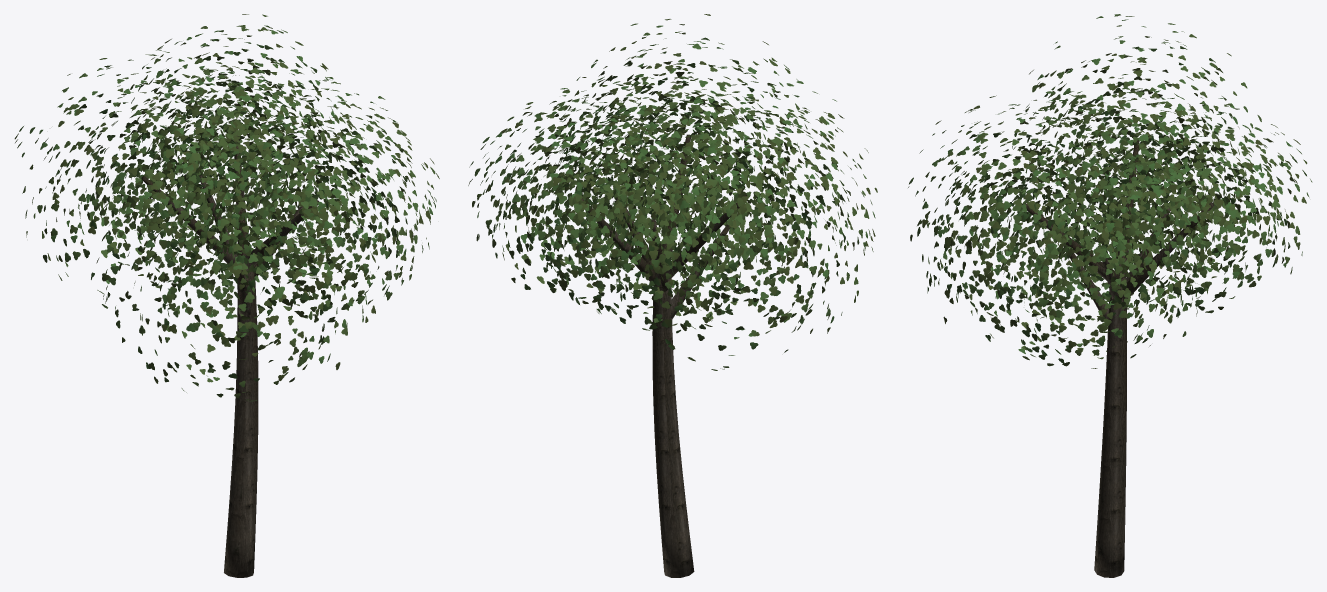
Rendered from ER_Arbre_Feuillu_14m.gltf.
3 renders of one model, left to right at view 1: azimuth 30°, elevation 25°; view 2: azimuth 150°, elevation 25°; view 3: azimuth 270°, elevation 25°, orthographic. The views are drawn at different scales.
Parts seen in each view (by area): view 1: ER_Arbre_Feuillu_14m_FEU3.001, ER_Arbre_Feuillu_14m_ECO.001; view 2: ER_Arbre_Feuillu_14m_FEU3.001, ER_Arbre_Feuillu_14m_ECO.001; view 3: ER_Arbre_Feuillu_14m_FEU3.001, ER_Arbre_Feuillu_14m_ECO.001.
Part boxes in pixels (<box>): ER_Arbre_Feuillu_14m_FEU3.001: <box>14,14,439,401</box>; ER_Arbre_Feuillu_14m_ECO.001: <box>141,129,319,577</box>; ER_Arbre_Feuillu_14m_FEU3.001: <box>468,14,877,370</box>; ER_Arbre_Feuillu_14m_ECO.001: <box>581,134,746,577</box>; ER_Arbre_Feuillu_14m_FEU3.001: <box>908,14,1312,368</box>; ER_Arbre_Feuillu_14m_ECO.001: <box>1022,140,1214,577</box>.
Bounding box in the file's own units: 8.77 × 11.9 × 8.65.
Materials: 2 (1 with a texture image).
